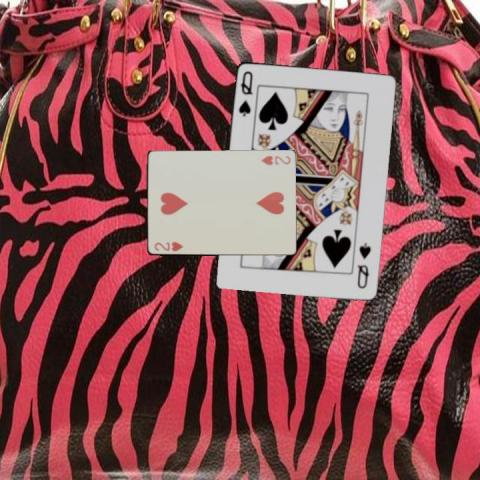2h: (151, 238, 184, 252), (259, 152, 291, 166)
Qs: (235, 68, 254, 117), (354, 240, 372, 290)
